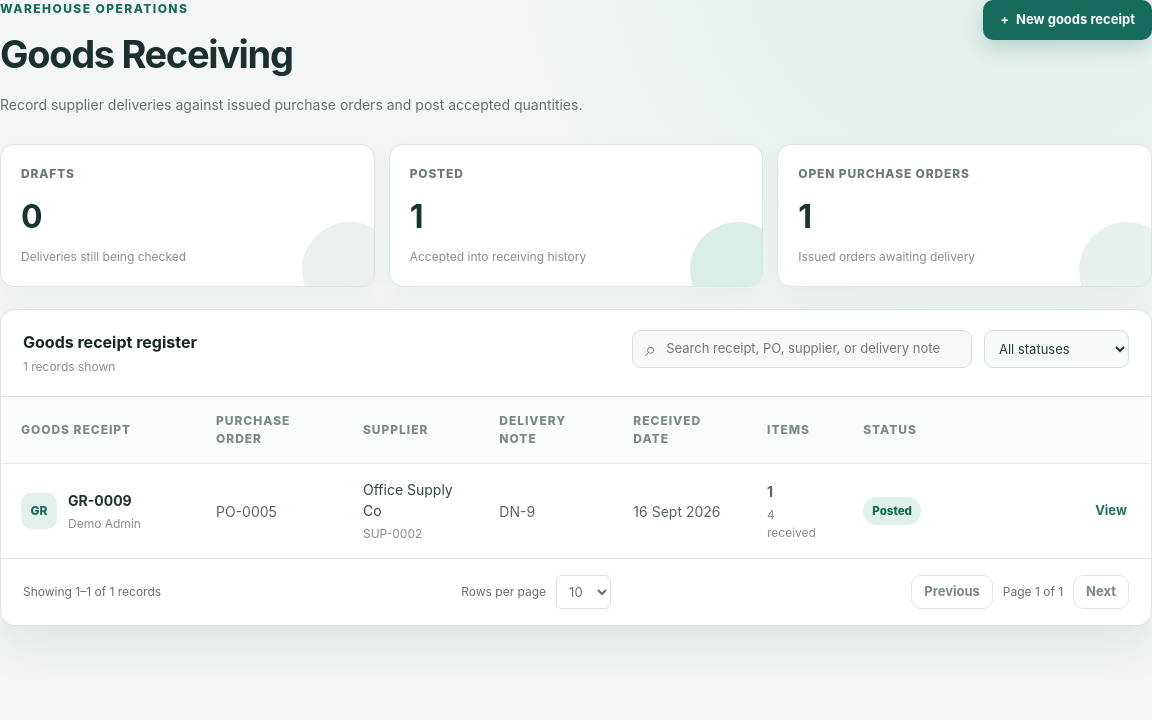
Test: GoodsReceiptListView › uses posted receipts to calculate previous and remaining quantities
The image size is (1152, 720).
Click the button "+ New goods receipt". click: (1068, 20)
box: [983,0,1151,40]
(page scrolled)
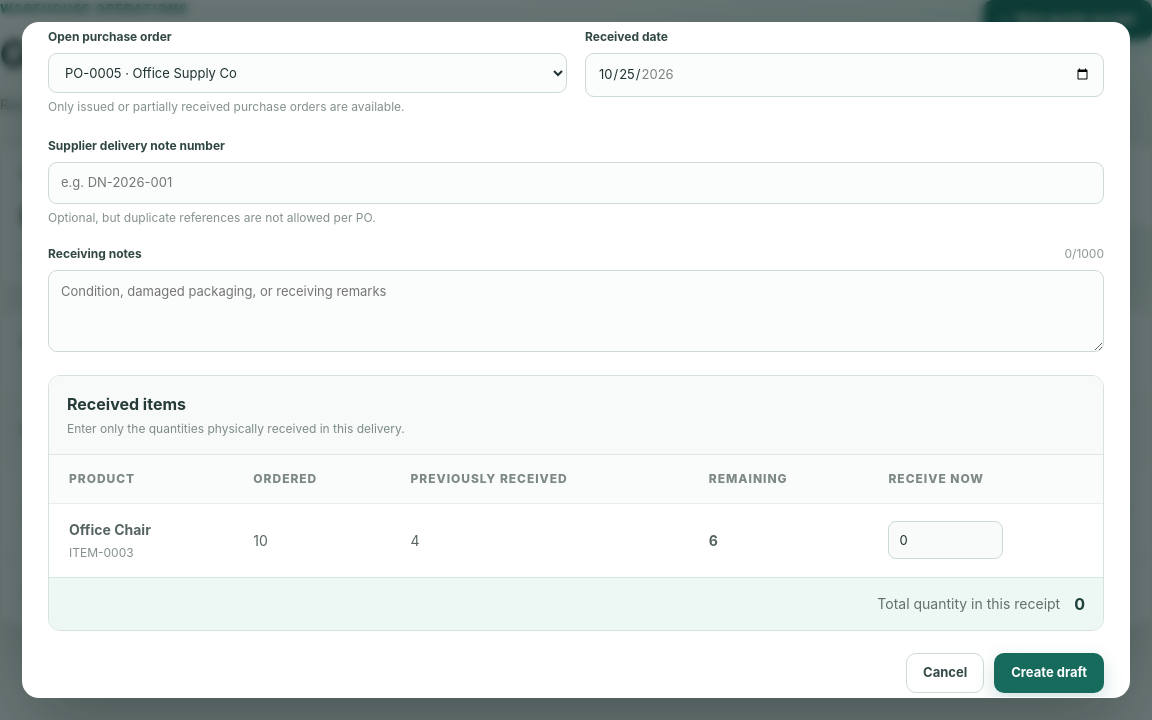
expect the form with class "goods-receipt-form" shows "Previously received": met, box [410,471,568,486]
expect the form with class "goods-receipt-form" shows "4": met, box [410,532,420,549]
expect the form with class "goods-receipt-form" shows "6": met, box [709,532,718,549]
